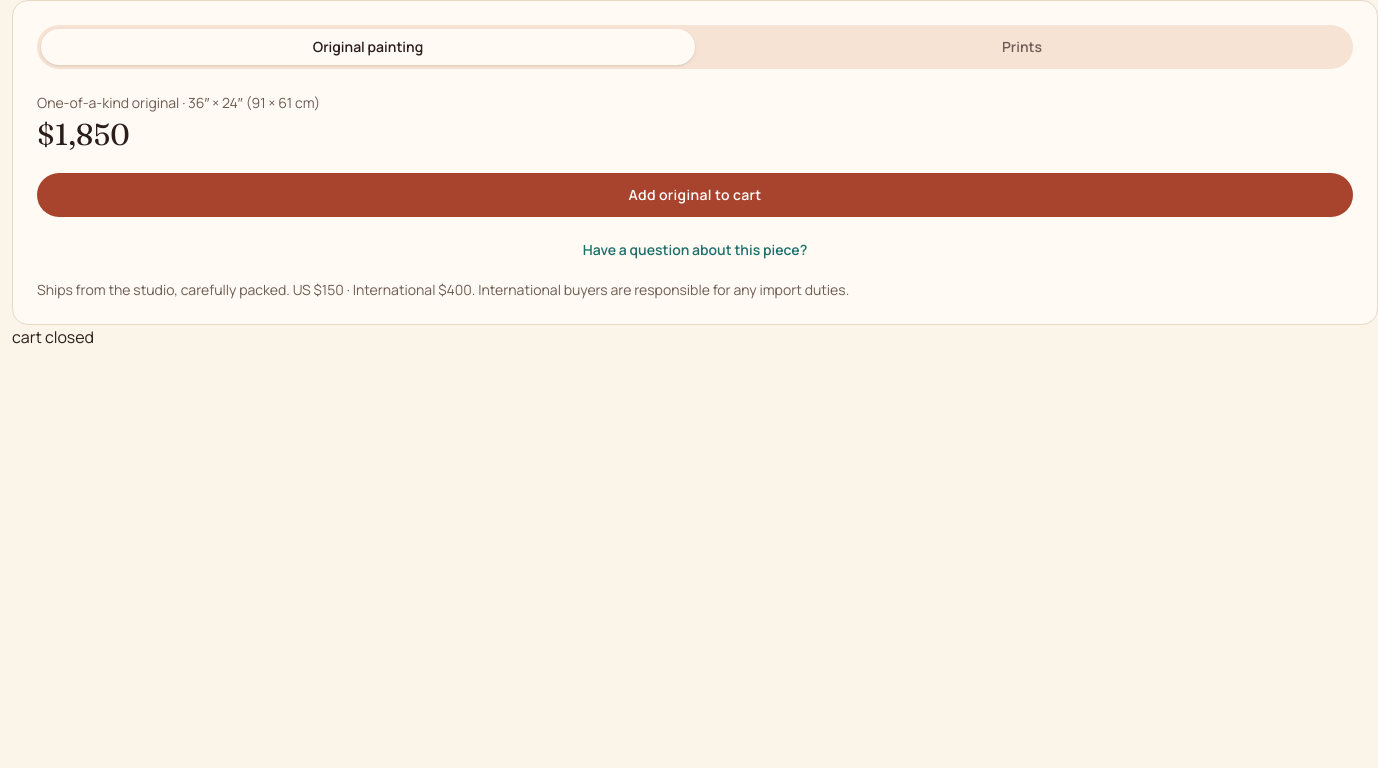
Scenario: PurchasePanel: prints › defaults to the smallest paper print and adds the chosen quantity
Click the tab "Prints" at point(1022, 47), box 695,29 -> 1349,65
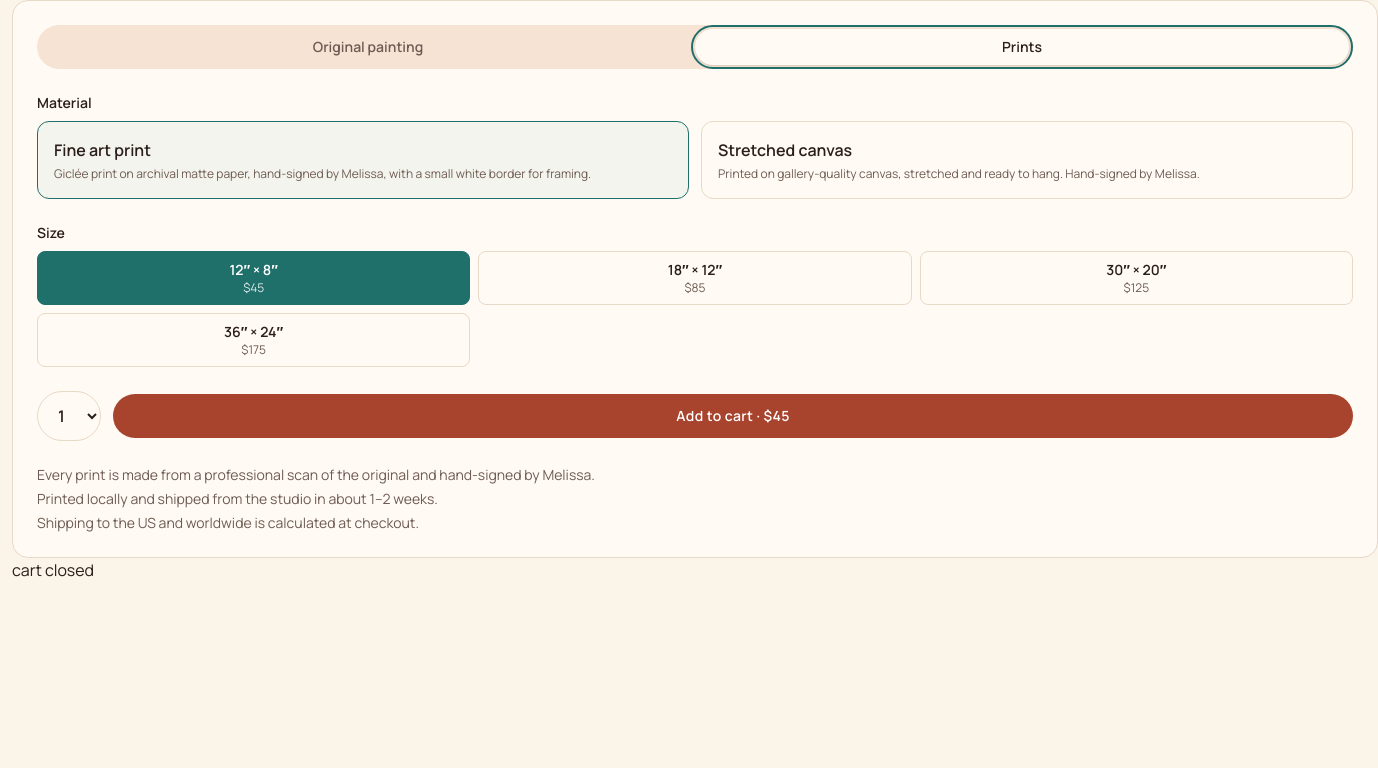
Expected: the radio button labelled "Fine art print" is checked, 37,121 -> 689,199
Expected: the radio button labelled "12″ × 8″ $45" is checked, 37,251 -> 470,305
Expected: the list item "shipped from the studio in about 1–2 weeks" is shown, 37,489 -> 438,508
Select "3" in the dropdown named "Quantity" at point(69, 416), box 37,391 -> 101,441
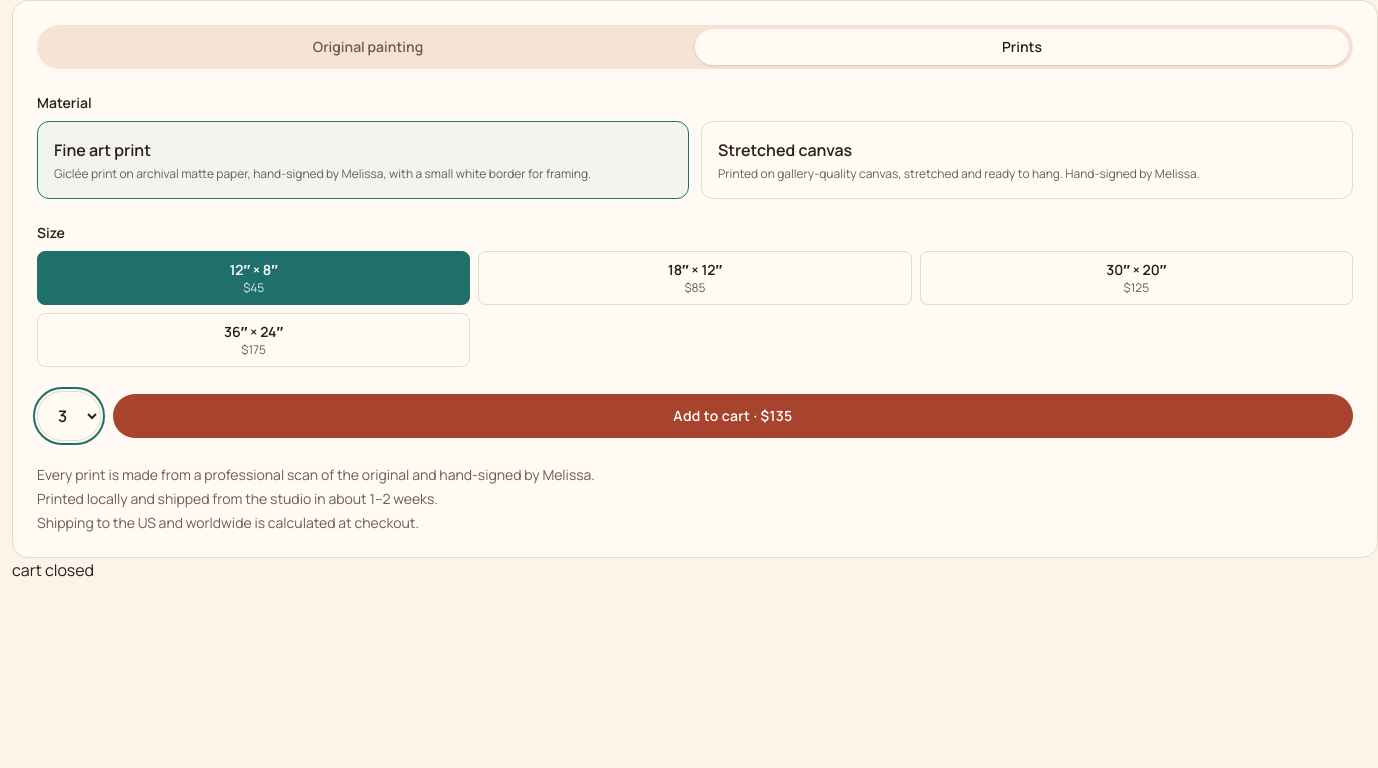
Click the button "Add to cart · $135" at point(733, 416), box 113,394 -> 1353,438
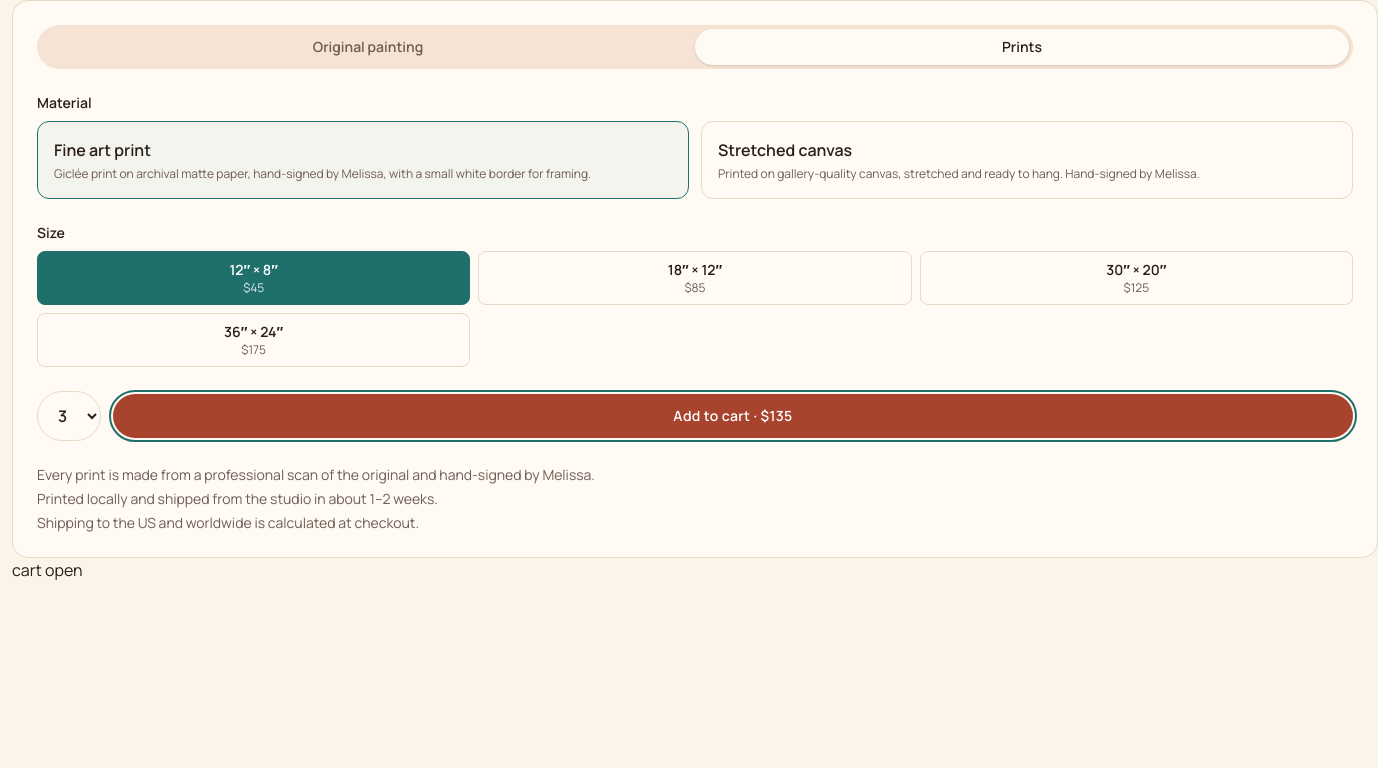
Expected: the text with test id "cart-state" reads "cart open", 12,559 -> 83,581
